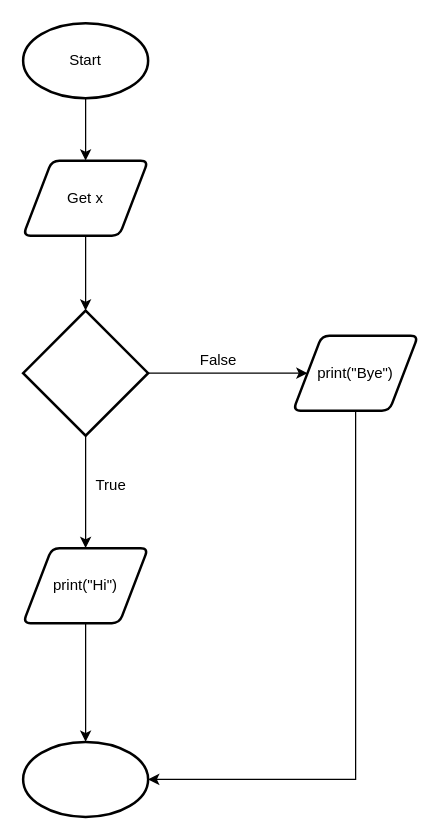
Image size: 440x839. Some labels were removed from this diagram. Each missing label, with the centre of its shape:
"End" goes at [85,779].
"if x > 1" goes at [85,372].
